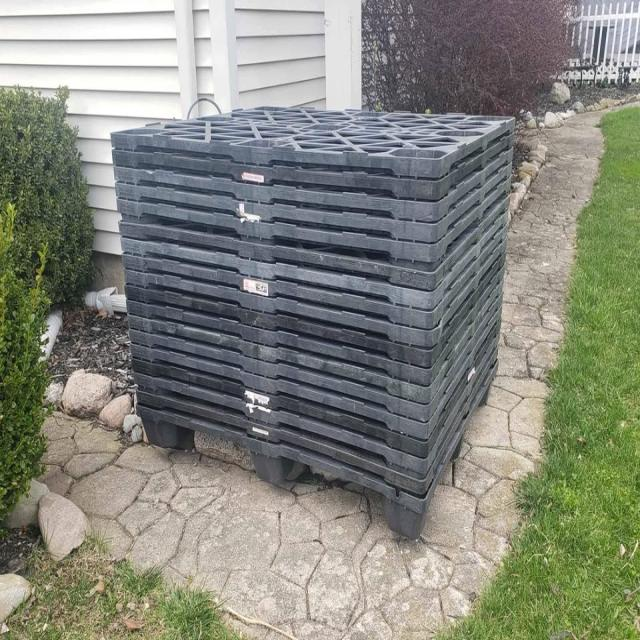non-igps: (133, 400, 426, 548), (103, 102, 522, 190), (128, 352, 427, 470), (133, 383, 428, 502), (129, 366, 428, 478), (128, 339, 426, 448), (124, 324, 426, 430), (125, 308, 426, 409), (123, 296, 430, 394), (122, 279, 430, 374), (120, 262, 428, 354), (121, 246, 426, 337), (119, 231, 428, 318), (110, 174, 433, 255), (114, 215, 428, 298), (113, 194, 431, 273), (110, 160, 436, 230), (106, 140, 436, 208)
